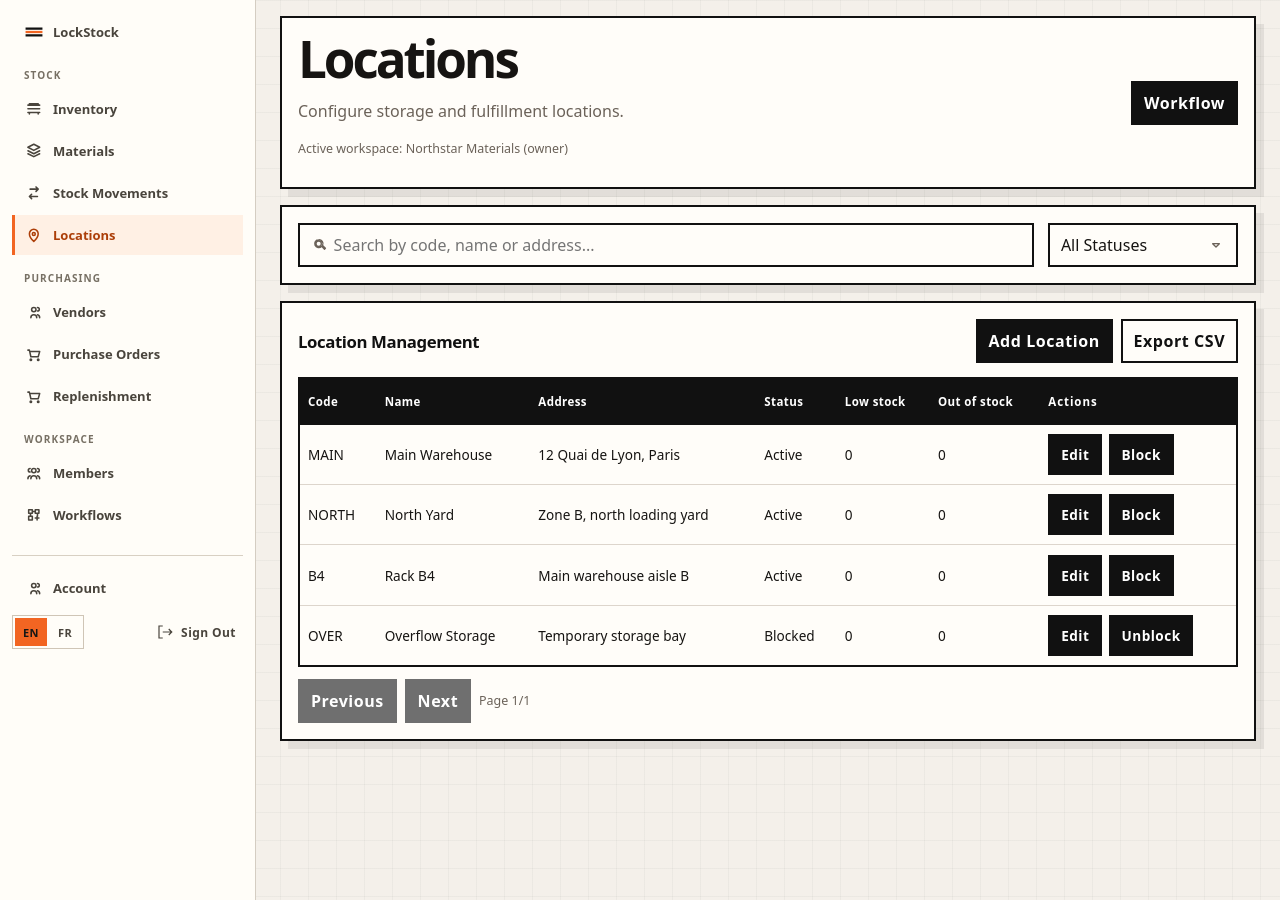
Test: catalog dialogs in the complete workbench › opens the create dialog from the Locations page
The width and height of the screenshot is (1280, 900).
What coordinates should you click on to do the following:
click the button "Add Location"
I would click on:
 (1044, 341)
Its box is [976,319,1113,363].
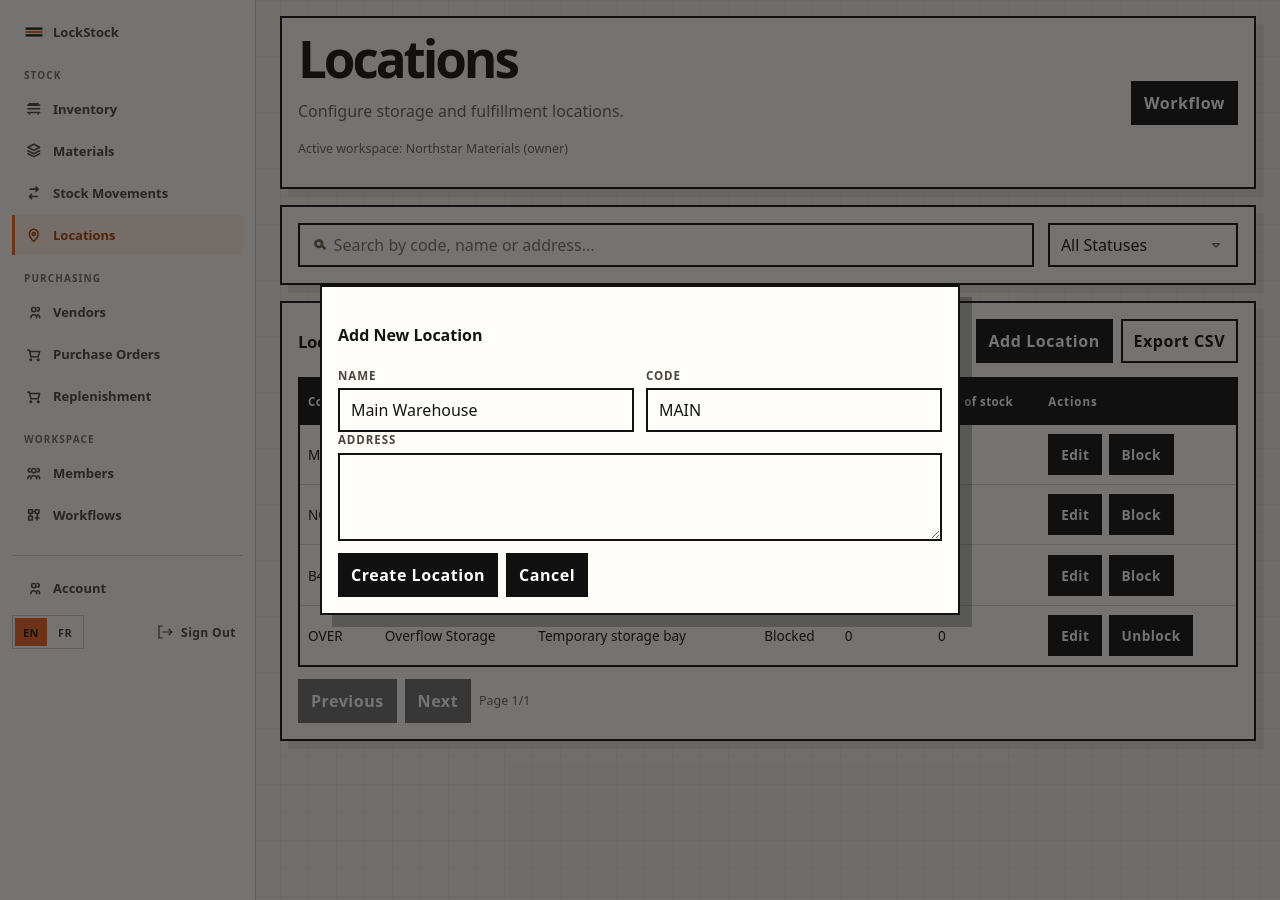
Check: the field labelled "Name" holds "Main Warehouse", box [338,388,634,432]
Check: the button "Create Location" is enabled, box [338,553,498,597]
